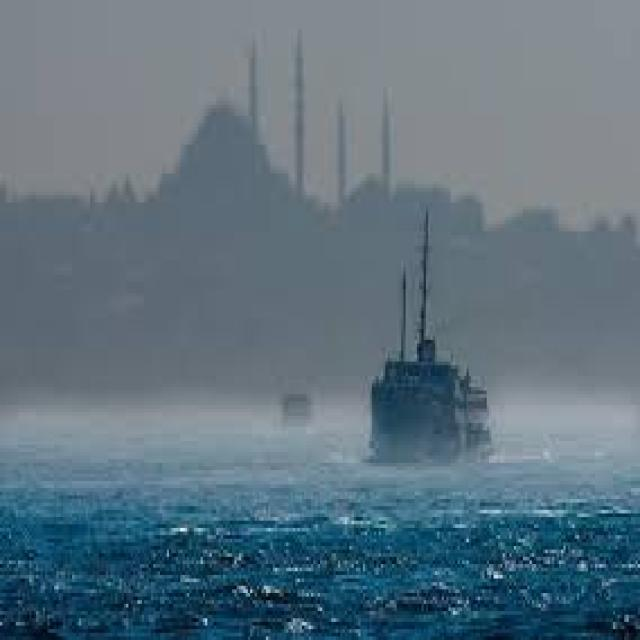fishing boat: (358, 228, 504, 454)
